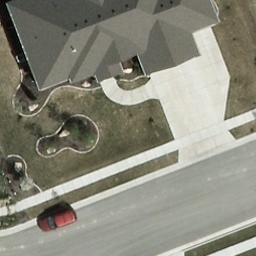car: (36, 208, 78, 235)
